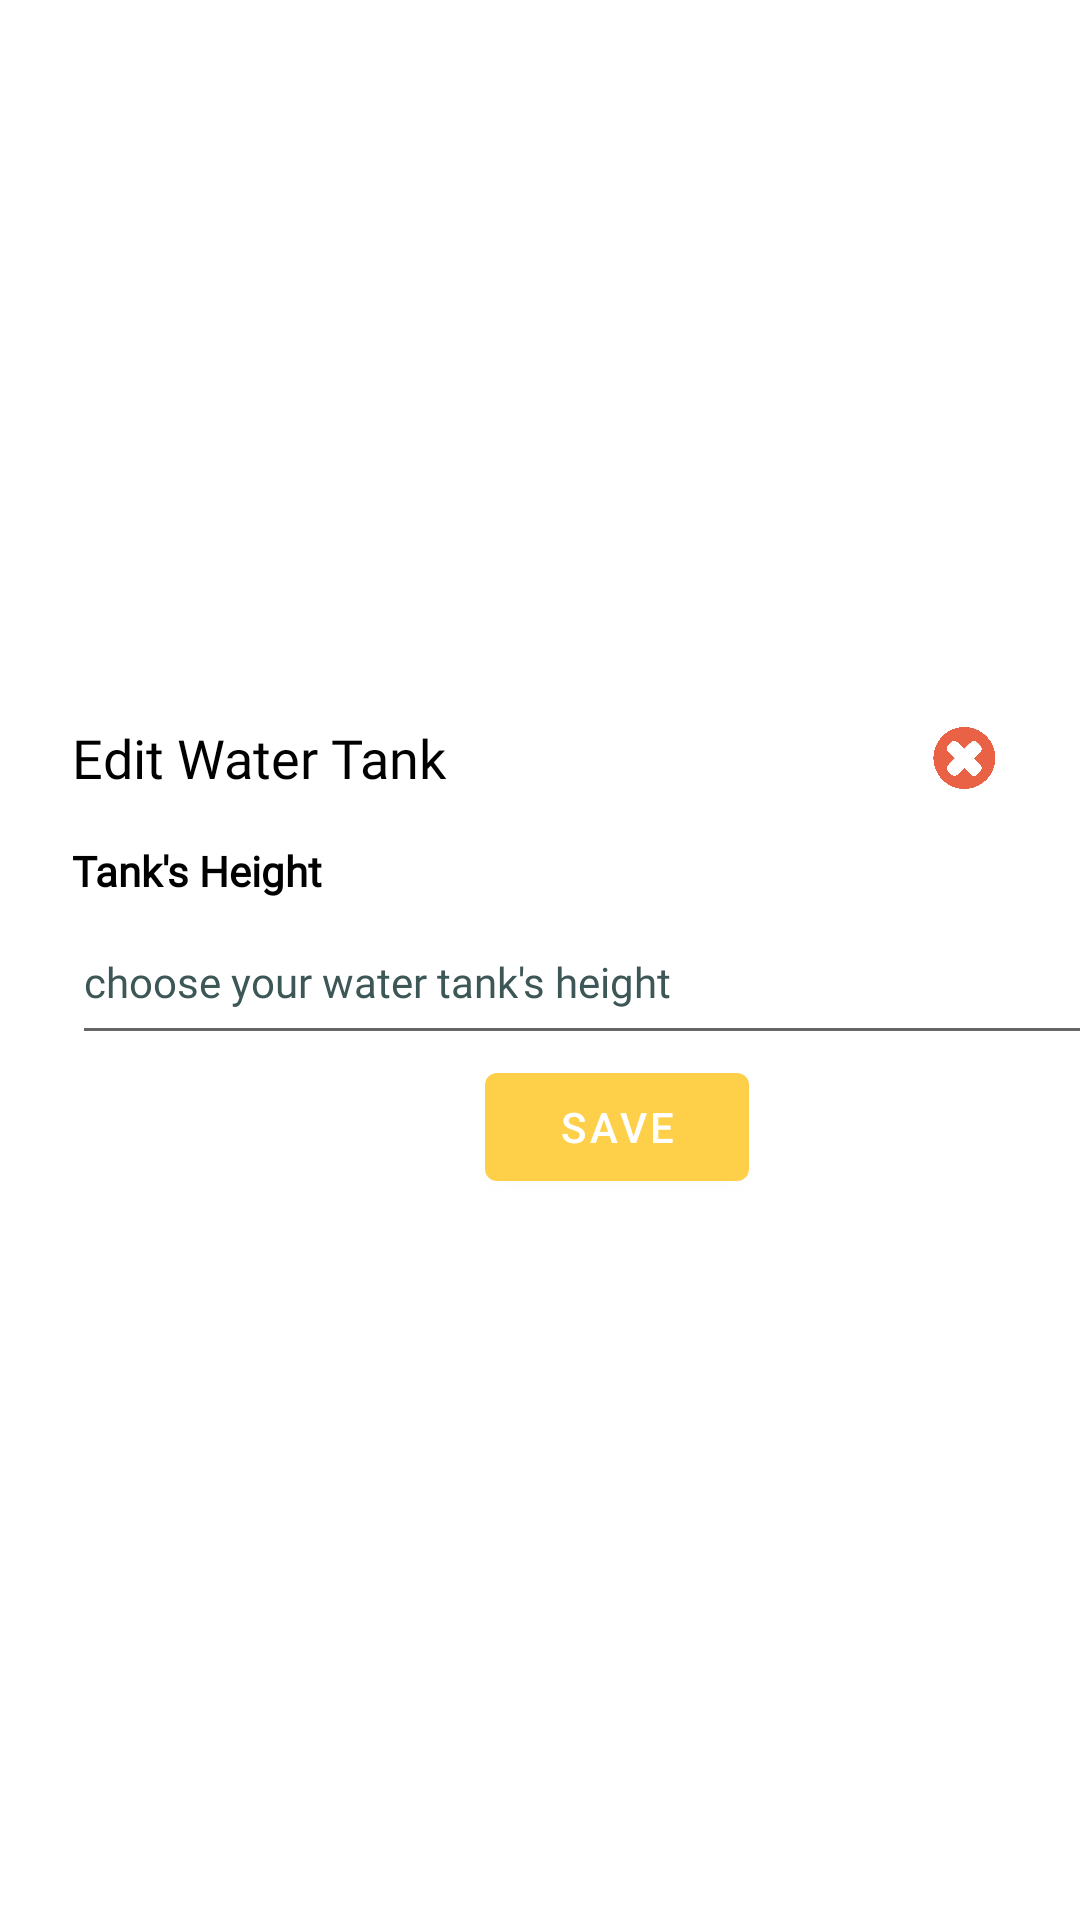

Where to tap for icons on this 1080px x 1920px app screen, as (x,y):
close: (964,758)
